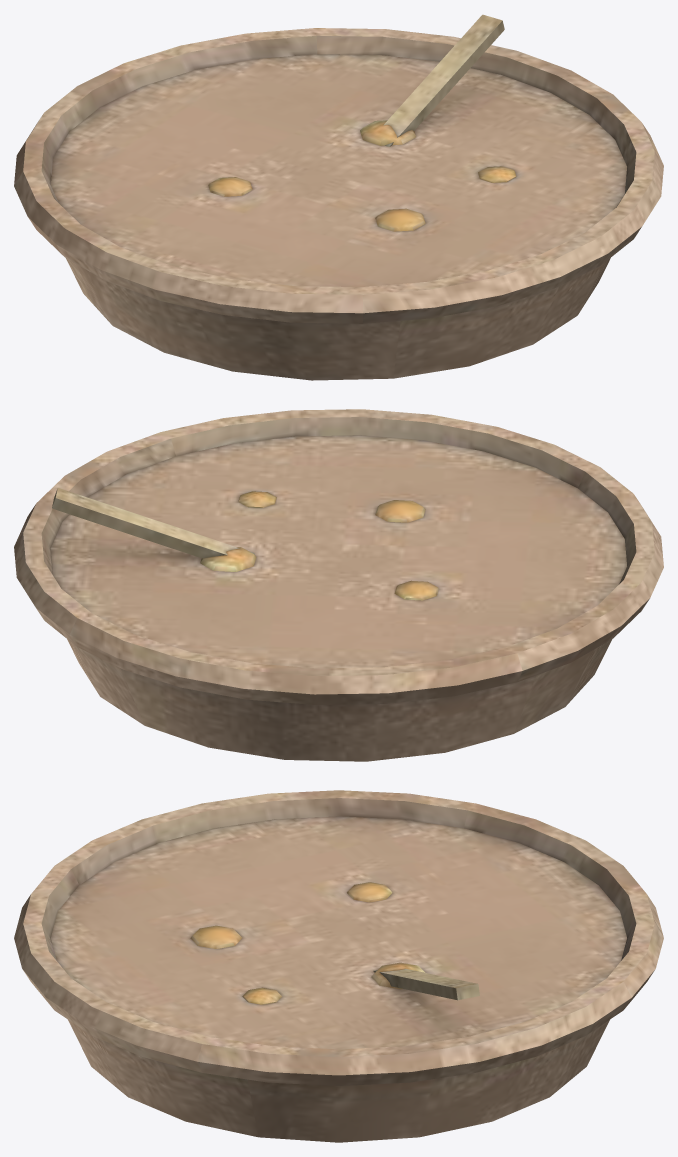
Rendered from prato_sopa.glb.
The picture shows the model from 3 angles, top to bottom: view 1: azimuth 30°, elevation 25°; view 2: azimuth 150°, elevation 25°; view 3: azimuth 270°, elevation 25°; orthographic projection.
Visible parts, largest first — view 1: prato_sopa; view 2: prato_sopa; view 3: prato_sopa.
Part boxes in pixels (left/top/right/bottom): prato_sopa: left=14, top=14, right=663, bottom=380; prato_sopa: left=14, top=409, right=663, bottom=761; prato_sopa: left=14, top=790, right=663, bottom=1142.
Bounding box in the file's own units: 0.212 × 0.0709 × 0.212.
1 material, 1 textured.
